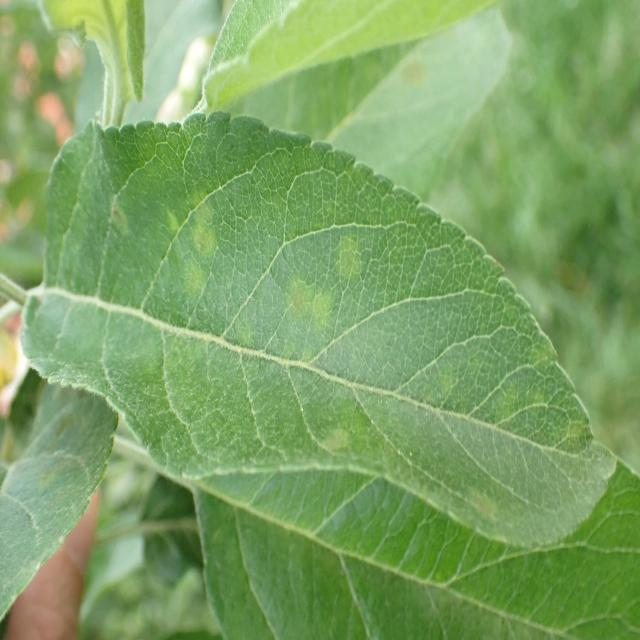scab: (43, 127, 590, 532), (383, 33, 454, 103)
